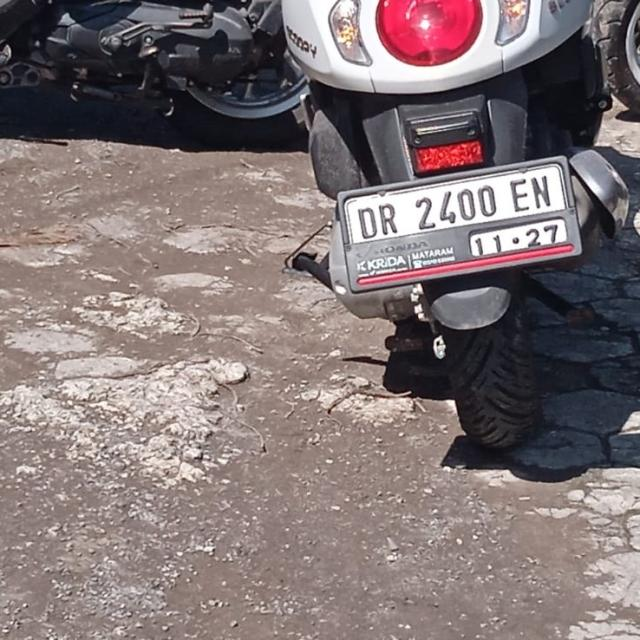plate: (344, 164, 573, 278)
